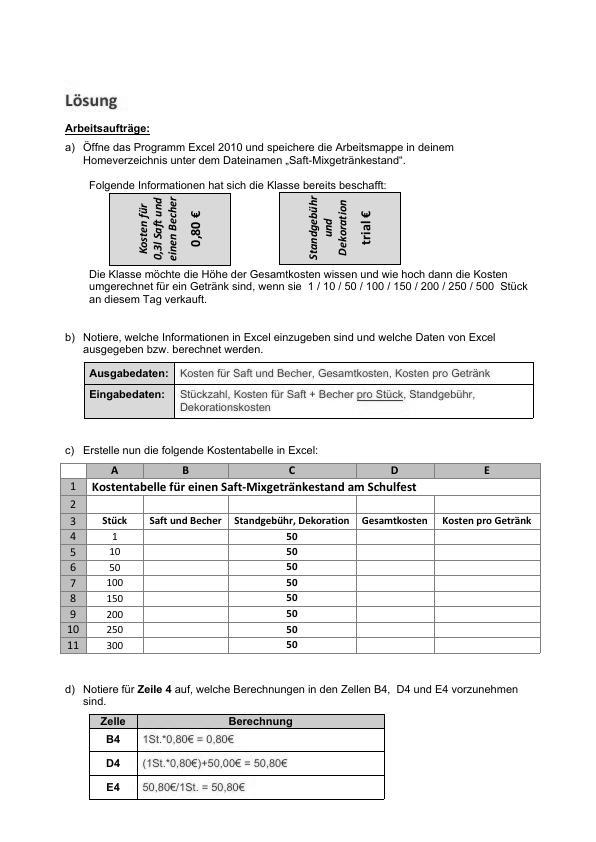table: (59, 459, 548, 660), (82, 360, 537, 427), (85, 711, 393, 807)
text: (58, 123, 457, 193), (84, 269, 536, 311), (60, 679, 531, 713), (61, 328, 503, 360), (60, 442, 325, 460), (60, 88, 125, 112)
